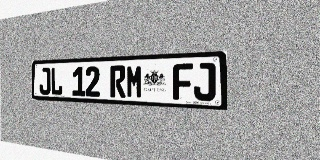1: (72, 66, 85, 96)
2: (86, 66, 100, 97)
F: (173, 63, 193, 100)
J: (194, 62, 215, 101), (39, 68, 50, 95)
L: (51, 67, 62, 95)
M: (126, 65, 143, 98)
R: (110, 65, 126, 98)
